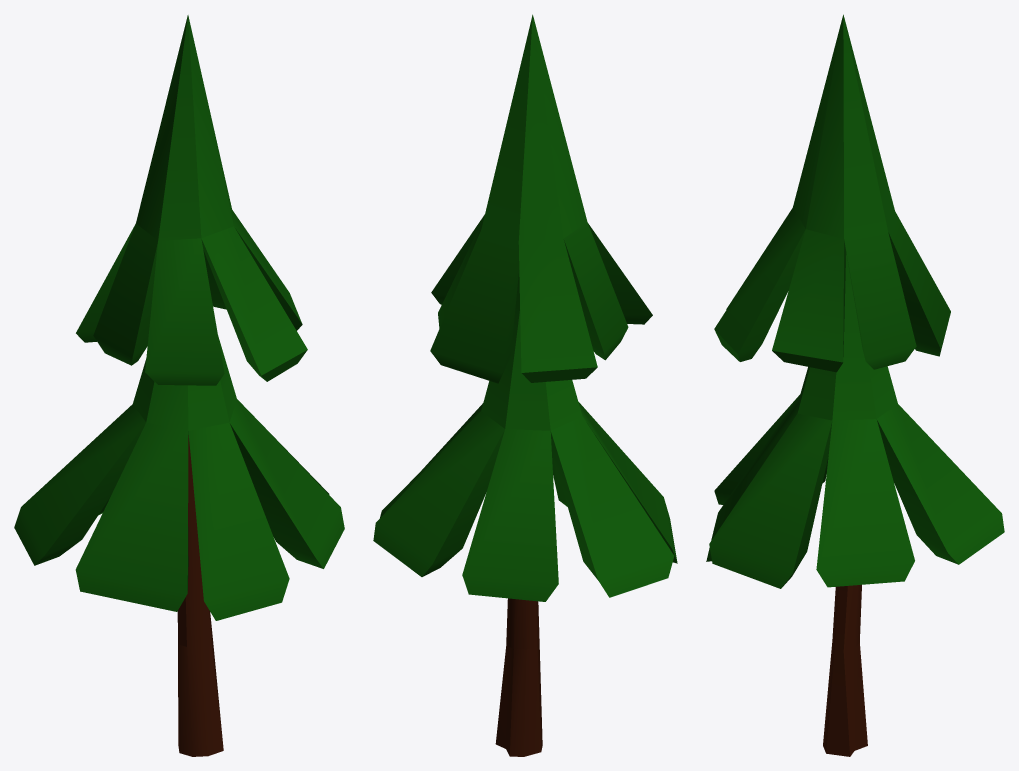
File: TreeFir1.obj
3 views of the same model, side by side, from view 1: azimuth 30°, elevation 25°; view 2: azimuth 150°, elevation 25°; view 3: azimuth 270°, elevation 25° (orthographic).
Parts seen in each view (by area): view 1: Tree_Fir_1; view 2: Tree_Fir_1; view 3: Tree_Fir_1.
Boxes of the visible parts, bbox=[...] form: Tree_Fir_1: bbox=[14, 15, 344, 756]; Tree_Fir_1: bbox=[373, 14, 677, 756]; Tree_Fir_1: bbox=[706, 14, 1004, 756].
Size of the model in its own units: 0.0918 by 0.2326 by 0.0866.
